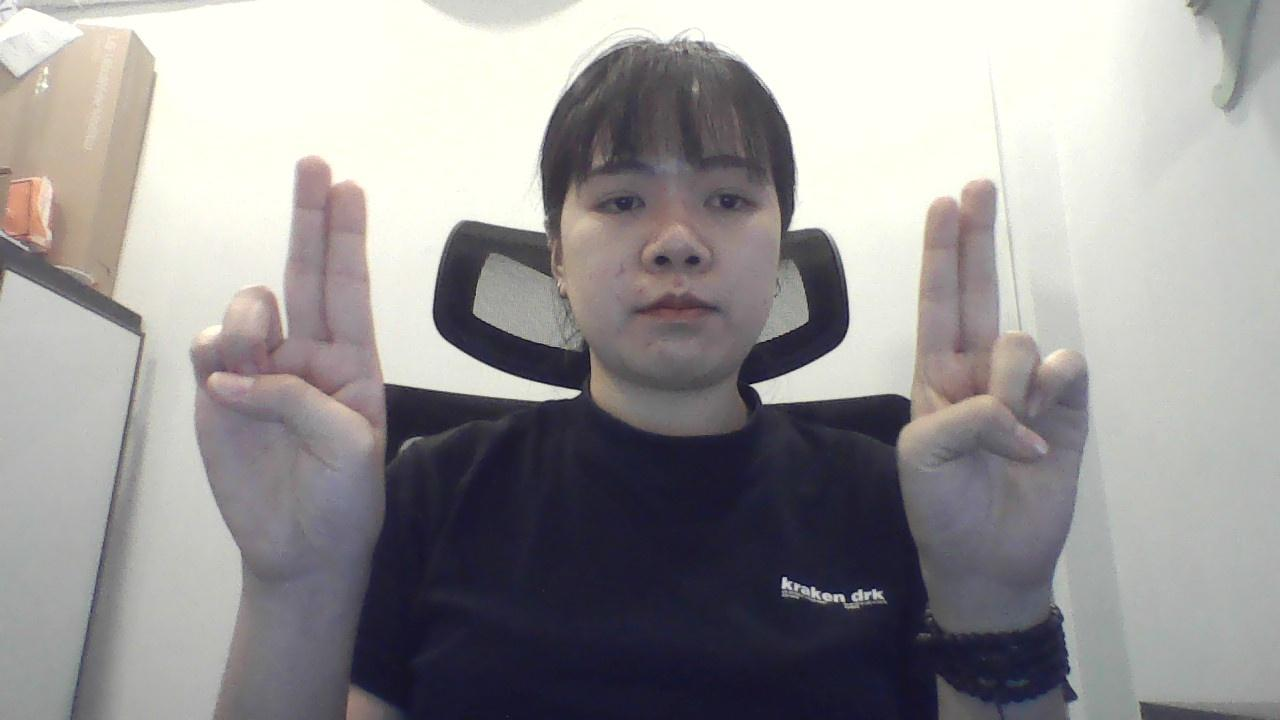U: (874, 155, 1098, 614), (182, 145, 397, 588)
